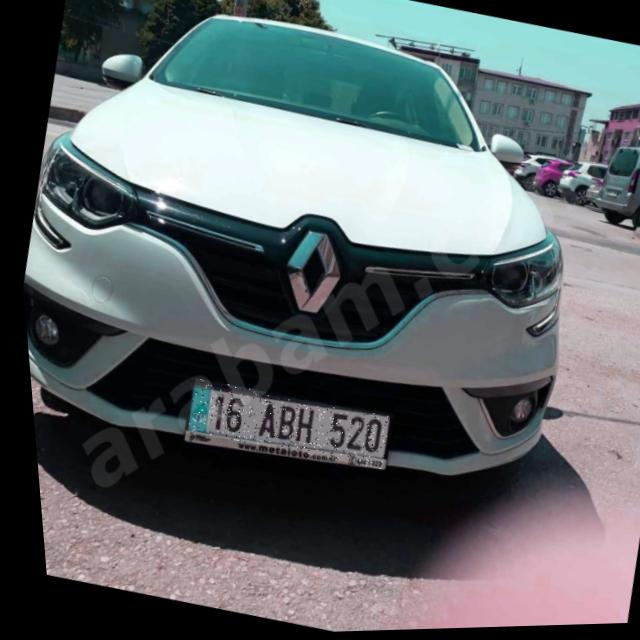license_plate: (176, 375, 385, 476)
